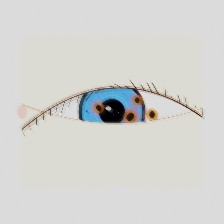foreign_body_visible: (123, 88, 152, 112)
